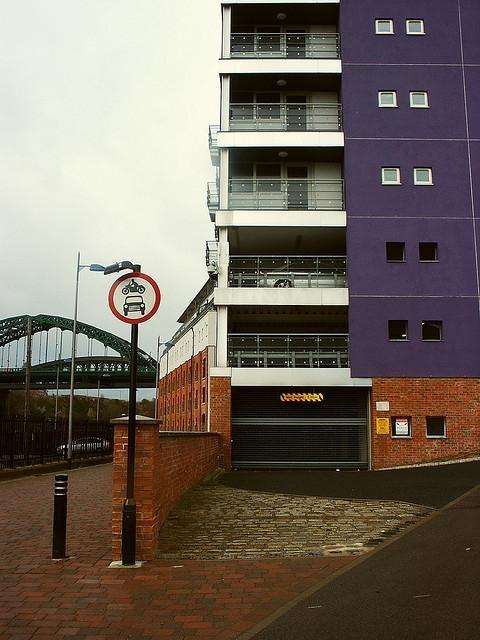car: (256, 254, 348, 290), (57, 437, 111, 456)
